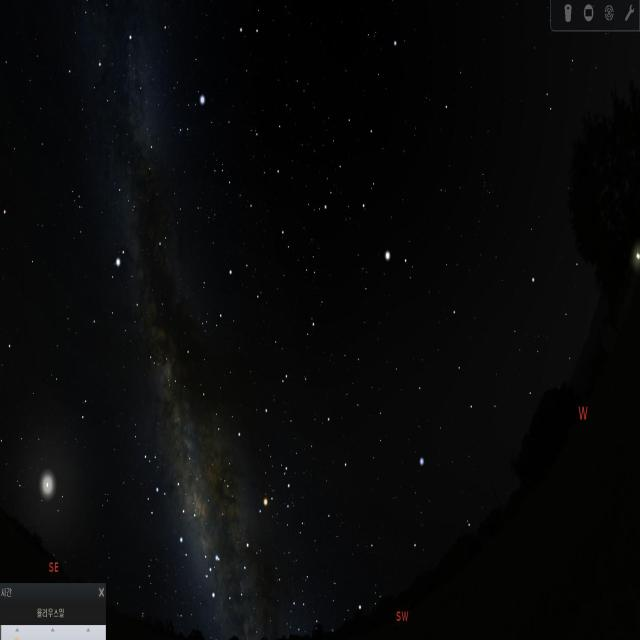aquila: (87, 201, 177, 381)
bootes: (334, 104, 427, 304)
lyra: (176, 89, 207, 139)
moon: (27, 461, 64, 517)
sagittarius: (134, 437, 201, 551)
scorpius: (202, 452, 295, 604)
